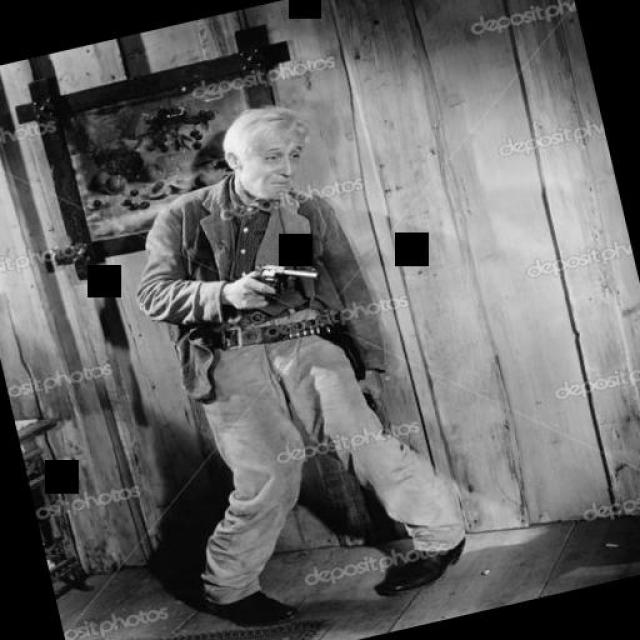gun: (202, 248, 332, 314)
